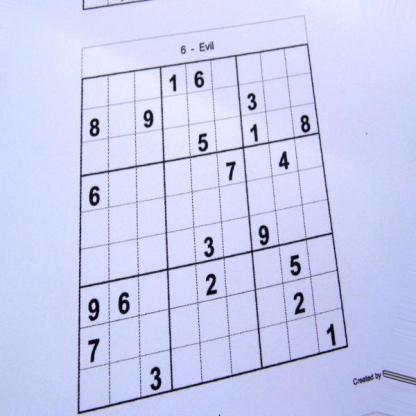sudoku: (74, 39, 352, 416)
